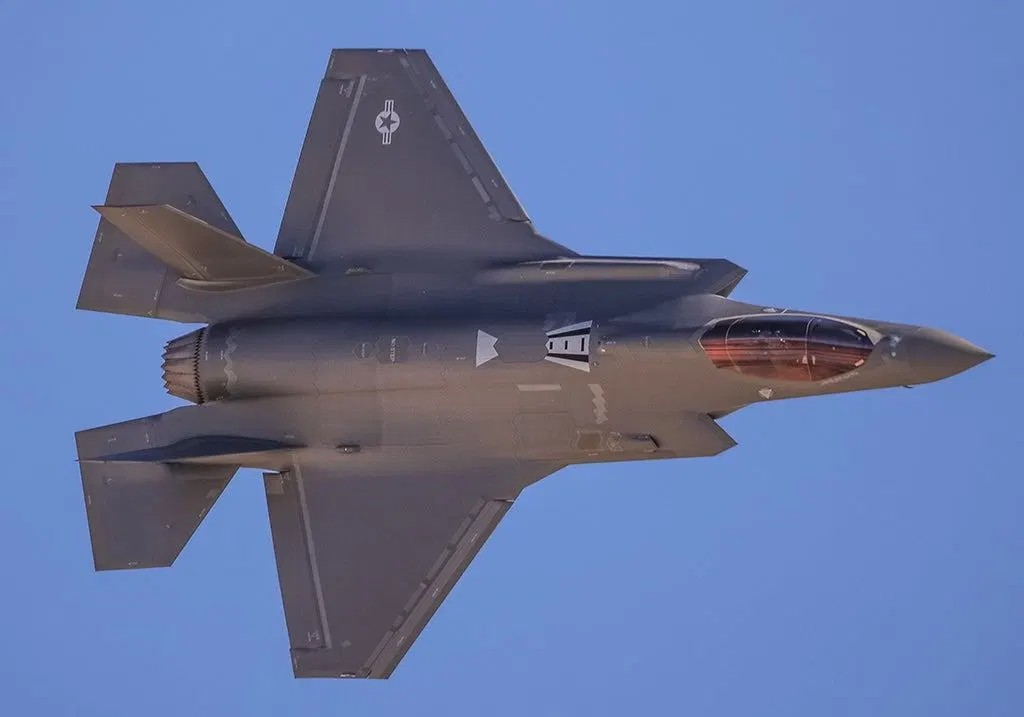F-35 Lightning: (38, 35, 1006, 677)
